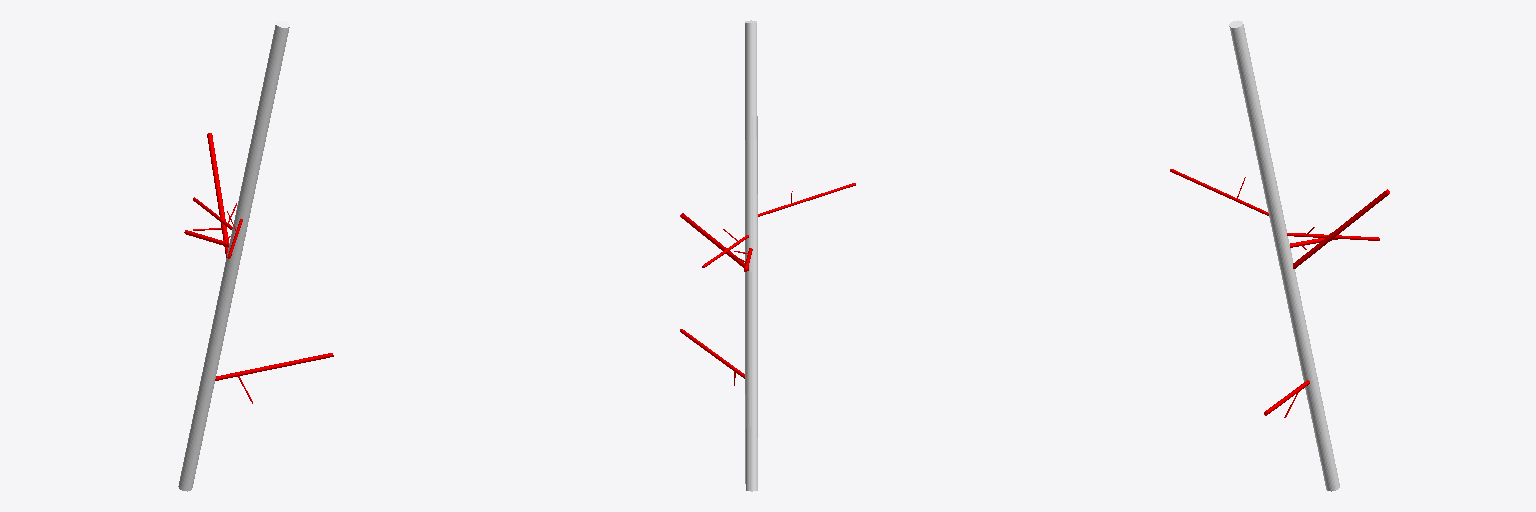
URDF robot description (tree_27.urdf):
<?xml version='1.0' encoding='UTF-8'?>
<robot name="tree_27.urdf">
  <link name="branch_0">
    <inertial>
      <origin xyz="0.0 0.0 0.0" rpy="0.0 -0.0 0.0"/>
      <mass value="0.1"/>
      <inertia ixx="0.001" ixy="0.0" ixz="0.0" iyy="0.001" iyz="0.0" izz="0.001"/>
    </inertial>
    <visual name="branch_0_visual">
      <geometry>
        <cylinder radius="0.14324618730130206" length="10.997849213021256"/>
      </geometry>
      <material name="branch_material"/>
      <origin xyz="0.5689390681732245 -0.9701013756913632 5.382692958517695" rpy="1.3877787807814457e-17 0.20597109320903453 -1.0403819133826273"/>
    </visual>
    <collision name="branch_0_collision">
      <geometry>
        <cylinder radius="0.14324618730130206" length="10.997849213021256"/>
      </geometry>
      <origin xyz="0.5689390681732245 -0.9701013756913632 5.382692958517695" rpy="1.3877787807814457e-17 0.20597109320903453 -1.0403819133826273"/>
    </collision>
  </link>
  <link name="branch_1">
    <inertial>
      <origin xyz="0.0 0.0 0.0" rpy="0.0 -0.0 0.0"/>
      <mass value="0.1"/>
      <inertia ixx="0.001" ixy="0.0" ixz="0.0" iyy="0.001" iyz="0.0" izz="0.001"/>
    </inertial>
    <visual name="branch_1_visual">
      <geometry>
        <cylinder radius="0.034268415891066405" length="2.641873698503501"/>
      </geometry>
      <material name="semantic_material"/>
      <origin xyz="0.0 0.0 0.0" rpy="0.0 -0.0 0.0"/>
    </visual>
    <collision name="branch_1_collision">
      <geometry>
        <cylinder radius="0.034268415891066405" length="2.641873698503501"/>
      </geometry>
      <origin xyz="0.0 0.0 0.0" rpy="0.0 -0.0 0.0"/>
    </collision>
  </link>
  <link name="branch_2">
    <inertial>
      <origin xyz="0.0 0.0 0.0" rpy="0.0 -0.0 0.0"/>
      <mass value="0.1"/>
      <inertia ixx="0.001" ixy="0.0" ixz="0.0" iyy="0.001" iyz="0.0" izz="0.001"/>
    </inertial>
    <visual name="branch_2_visual">
      <geometry>
        <cylinder radius="0.010449620468542288" length="0.49864822956668303"/>
      </geometry>
      <material name="semantic_material"/>
      <origin xyz="0.0 0.0 0.0" rpy="0.0 -0.0 0.0"/>
    </visual>
    <collision name="branch_2_collision">
      <geometry>
        <cylinder radius="0.010449620468542288" length="0.49864822956668303"/>
      </geometry>
      <origin xyz="0.0 0.0 0.0" rpy="0.0 -0.0 0.0"/>
    </collision>
  </link>
  <link name="branch_3">
    <inertial>
      <origin xyz="0.0 0.0 0.0" rpy="0.0 -0.0 0.0"/>
      <mass value="0.1"/>
      <inertia ixx="0.001" ixy="0.0" ixz="0.0" iyy="0.001" iyz="0.0" izz="0.001"/>
    </inertial>
    <visual name="branch_3_visual">
      <geometry>
        <cylinder radius="0.03609039506720217" length="1.9942617902448205"/>
      </geometry>
      <material name="semantic_material"/>
      <origin xyz="0.0 0.0 0.0" rpy="0.0 -0.0 0.0"/>
    </visual>
    <collision name="branch_3_collision">
      <geometry>
        <cylinder radius="0.03609039506720217" length="1.9942617902448205"/>
      </geometry>
      <origin xyz="0.0 0.0 0.0" rpy="0.0 -0.0 0.0"/>
    </collision>
  </link>
  <link name="branch_4">
    <inertial>
      <origin xyz="0.0 0.0 0.0" rpy="0.0 -0.0 0.0"/>
      <mass value="0.1"/>
      <inertia ixx="0.001" ixy="0.0" ixz="0.0" iyy="0.001" iyz="0.0" izz="0.001"/>
    </inertial>
    <visual name="branch_4_visual">
      <geometry>
        <cylinder radius="0.0140185215224274" length="0.48533171259194763"/>
      </geometry>
      <material name="semantic_material"/>
      <origin xyz="0.0 0.0 0.0" rpy="0.0 -0.0 0.0"/>
    </visual>
    <collision name="branch_4_collision">
      <geometry>
        <cylinder radius="0.0140185215224274" length="0.48533171259194763"/>
      </geometry>
      <origin xyz="0.0 0.0 0.0" rpy="0.0 -0.0 0.0"/>
    </collision>
  </link>
  <link name="branch_5">
    <inertial>
      <origin xyz="0.0 0.0 0.0" rpy="0.0 -0.0 0.0"/>
      <mass value="0.1"/>
      <inertia ixx="0.001" ixy="0.0" ixz="0.0" iyy="0.001" iyz="0.0" izz="0.001"/>
    </inertial>
    <visual name="branch_5_visual">
      <geometry>
        <cylinder radius="0.05373756936398172" length="2.960173473503283"/>
      </geometry>
      <material name="semantic_material"/>
      <origin xyz="0.0 0.0 0.0" rpy="0.0 -0.0 0.0"/>
    </visual>
    <collision name="branch_5_collision">
      <geometry>
        <cylinder radius="0.05373756936398172" length="2.960173473503283"/>
      </geometry>
      <origin xyz="0.0 0.0 0.0" rpy="0.0 -0.0 0.0"/>
    </collision>
  </link>
  <link name="branch_6">
    <inertial>
      <origin xyz="0.0 0.0 0.0" rpy="0.0 -0.0 0.0"/>
      <mass value="0.1"/>
      <inertia ixx="0.001" ixy="0.0" ixz="0.0" iyy="0.001" iyz="0.0" izz="0.001"/>
    </inertial>
    <visual name="branch_6_visual">
      <geometry>
        <cylinder radius="0.017780286475107588" length="0.6282973146122257"/>
      </geometry>
      <material name="semantic_material"/>
      <origin xyz="0.0 0.0 0.0" rpy="0.0 -0.0 0.0"/>
    </visual>
    <collision name="branch_6_collision">
      <geometry>
        <cylinder radius="0.017780286475107588" length="0.6282973146122257"/>
      </geometry>
      <origin xyz="0.0 0.0 0.0" rpy="0.0 -0.0 0.0"/>
    </collision>
  </link>
  <link name="branch_7">
    <inertial>
      <origin xyz="0.0 0.0 0.0" rpy="0.0 -0.0 0.0"/>
      <mass value="0.1"/>
      <inertia ixx="0.001" ixy="0.0" ixz="0.0" iyy="0.001" iyz="0.0" izz="0.001"/>
    </inertial>
    <visual name="branch_7_visual">
      <geometry>
        <cylinder radius="0.04526182663647939" length="1.2459391652609115"/>
      </geometry>
      <material name="semantic_material"/>
      <origin xyz="0.0 0.0 0.0" rpy="0.0 -0.0 0.0"/>
    </visual>
    <collision name="branch_7_collision">
      <geometry>
        <cylinder radius="0.04526182663647939" length="1.2459391652609115"/>
      </geometry>
      <origin xyz="0.0 0.0 0.0" rpy="0.0 -0.0 0.0"/>
    </collision>
  </link>
  <link name="branch_8">
    <inertial>
      <origin xyz="0.0 0.0 0.0" rpy="0.0 -0.0 0.0"/>
      <mass value="0.1"/>
      <inertia ixx="0.001" ixy="0.0" ixz="0.0" iyy="0.001" iyz="0.0" izz="0.001"/>
    </inertial>
    <visual name="branch_8_visual">
      <geometry>
        <cylinder radius="0.014942328647151693" length="0.3591162985327138"/>
      </geometry>
      <material name="semantic_material"/>
      <origin xyz="0.0 0.0 0.0" rpy="0.0 -0.0 0.0"/>
    </visual>
    <collision name="branch_8_collision">
      <geometry>
        <cylinder radius="0.014942328647151693" length="0.3591162985327138"/>
      </geometry>
      <origin xyz="0.0 0.0 0.0" rpy="0.0 -0.0 0.0"/>
    </collision>
  </link>
  <link name="branch_9">
    <inertial>
      <origin xyz="0.0 0.0 0.0" rpy="0.0 -0.0 0.0"/>
      <mass value="0.1"/>
      <inertia ixx="0.001" ixy="0.0" ixz="0.0" iyy="0.001" iyz="0.0" izz="0.001"/>
    </inertial>
    <visual name="branch_9_visual">
      <geometry>
        <cylinder radius="0.044736377997643115" length="2.571264577090397"/>
      </geometry>
      <material name="semantic_material"/>
      <origin xyz="0.0 0.0 0.0" rpy="0.0 -0.0 0.0"/>
    </visual>
    <collision name="branch_9_collision">
      <geometry>
        <cylinder radius="0.044736377997643115" length="2.571264577090397"/>
      </geometry>
      <origin xyz="0.0 0.0 0.0" rpy="0.0 -0.0 0.0"/>
    </collision>
  </link>
  <link name="branch_10">
    <inertial>
      <origin xyz="0.0 0.0 0.0" rpy="0.0 -0.0 0.0"/>
      <mass value="0.1"/>
      <inertia ixx="0.001" ixy="0.0" ixz="0.0" iyy="0.001" iyz="0.0" izz="0.001"/>
    </inertial>
    <visual name="branch_10_visual">
      <geometry>
        <cylinder radius="0.016406912082366037" length="0.6697006094424548"/>
      </geometry>
      <material name="semantic_material"/>
      <origin xyz="0.0 0.0 0.0" rpy="0.0 -0.0 0.0"/>
    </visual>
    <collision name="branch_10_collision">
      <geometry>
        <cylinder radius="0.016406912082366037" length="0.6697006094424548"/>
      </geometry>
      <origin xyz="0.0 0.0 0.0" rpy="0.0 -0.0 0.0"/>
    </collision>
  </link>
  <joint name="joint_0_1" type="fixed">
    <parent link="branch_0"/>
    <child link="branch_1"/>
    <axis xyz="1. 0. 0."/>
    <origin xyz="-0.10204929192839603 -2.191564077685244 6.436891757612072" rpy="-0.9577458806388686 1.3368205114949663 3.1187556641247536"/>
  </joint>
  <joint name="joint_0_3" type="fixed">
    <parent link="branch_0"/>
    <child link="branch_3"/>
    <axis xyz="1. 0. 0."/>
    <origin xyz="0.6836091297075064 -0.06774841788910177 5.864250350364749" rpy="1.8352712658678134 1.450034430654444 -2.9396489914902326"/>
  </joint>
  <joint name="joint_0_5" type="fixed">
    <parent link="branch_0"/>
    <child link="branch_5"/>
    <axis xyz="1. 0. 0."/>
    <origin xyz="0.8651633071388547 0.09871905650426313 6.063888509524848" rpy="0.19219496674841832 0.7789909167691571 1.5206736417593074"/>
  </joint>
  <joint name="joint_0_7" type="fixed">
    <parent link="branch_0"/>
    <child link="branch_7"/>
    <axis xyz="1. 0. 0."/>
    <origin xyz="0.3380896960914633 -0.43800202474261457 5.584529510573233" rpy="1.9025262648338874 1.5459081090375921 -2.392237632486833"/>
  </joint>
  <joint name="joint_0_9" type="fixed">
    <parent link="branch_0"/>
    <child link="branch_9"/>
    <axis xyz="1. 0. 0."/>
    <origin xyz="1.4531333597414062 -0.8985085120656847 2.681243733305024" rpy="0.7370622806629592 1.3711768487338225 0.3859502523595532"/>
  </joint>
  <joint name="joint_1_2" type="fixed">
    <parent link="branch_0"/>
    <child link="branch_2"/>
    <axis xyz="1. 0. 0."/>
    <origin xyz="0.015986582854062664 -1.8452244975780236 6.61734327170328" rpy="-0.440902800440172 0.14637986774760575 0.9418567505629526"/>
  </joint>
  <joint name="joint_3_4" type="fixed">
    <parent link="branch_0"/>
    <child link="branch_4"/>
    <axis xyz="1. 0. 0."/>
    <origin xyz="0.8120737694402235 -0.4651959717652168 6.043903060049557" rpy="-0.7817868347437357 -0.3008912246281207 -1.3739897749778733"/>
  </joint>
  <joint name="joint_5_6" type="fixed">
    <parent link="branch_0"/>
    <child link="branch_6"/>
    <axis xyz="1. 0. 0."/>
    <origin xyz="0.4467199009383372 -0.16670952716284088 5.674859621711007" rpy="1.5547097278989113 0.7737545724517075 -1.961464935202766"/>
  </joint>
  <joint name="joint_7_8" type="fixed">
    <parent link="branch_0"/>
    <child link="branch_8"/>
    <axis xyz="1. 0. 0."/>
    <origin xyz="0.6078486263347392 -0.6072563202490812 5.6059996082199035" rpy="-1.4622739127114672 0.0008179387821630047 -1.2350414690528186"/>
  </joint>
  <joint name="joint_9_10" type="fixed">
    <parent link="branch_0"/>
    <child link="branch_10"/>
    <axis xyz="1. 0. 0."/>
    <origin xyz="0.9171206544698333 -0.8123101767747096 2.2974412668374127" rpy="-2.7649421839289716 0.42198203938896844 2.8881961603349167"/>
  </joint>
  <material name="branch_material">
    <color rgba="1. 1. 1. 1."/>
  </material>
  <material name="semantic_material">
    <color rgba="1. 0. 0. 1."/>
  </material>
</robot>

--- What the picture shows (computed from the rendered views, not written in the file) ---
3 views of the same robot in one strip: view 1: azimuth 30°, elevation 25°; view 2: azimuth 150°, elevation 25°; view 3: azimuth 270°, elevation 25° (orthographic).
Robot: tree_27.urdf — 11 links, 10 joints (10 fixed); root link branch_0; default pose: every joint at zero.
Links seen in each view (by area): view 1: branch_0, branch_5, branch_9; view 2: branch_0; view 3: branch_0, branch_5.
Link boxes in pixels (x1,y1,x2,y2): branch_0: [178, 21, 289, 491]; branch_5: [207, 133, 228, 257]; branch_9: [215, 353, 333, 380]; branch_0: [745, 20, 757, 491]; branch_0: [1229, 20, 1339, 491]; branch_5: [1293, 189, 1389, 268].
Bounding box of the posed robot: 3.55 × 4.42 × 10.82 m (x, y, z).
Geometry: primitives only (box / cylinder / sphere), no mesh files.
